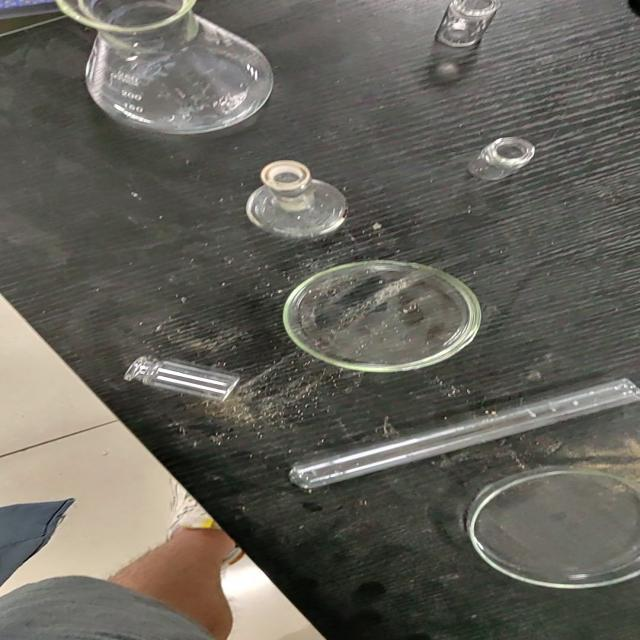cardboard: (0, 0, 639, 639)
cups: (54, 0, 274, 135), (244, 158, 348, 238), (122, 354, 239, 402), (433, 0, 501, 48)
